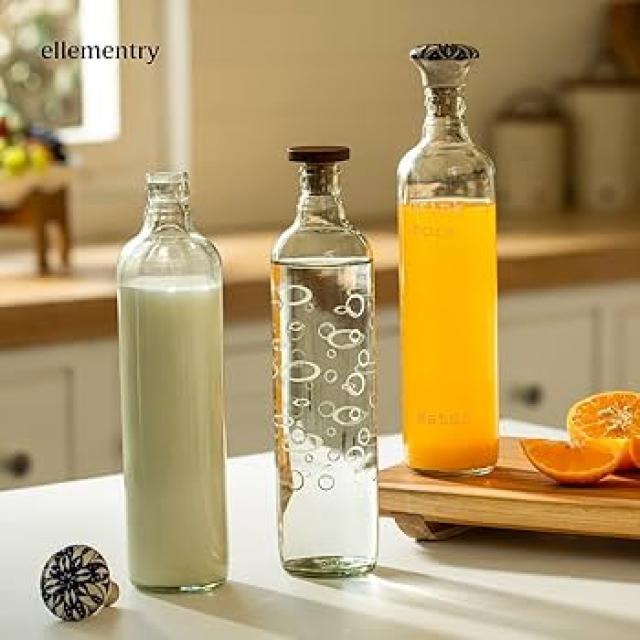glass: (99, 143, 243, 600), (388, 34, 527, 484), (268, 123, 394, 605)
